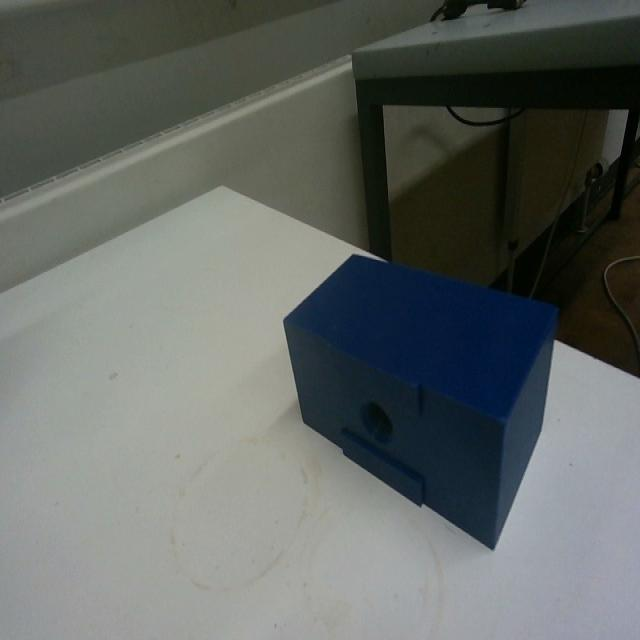Blue Cuboid: (280, 248, 560, 551)
